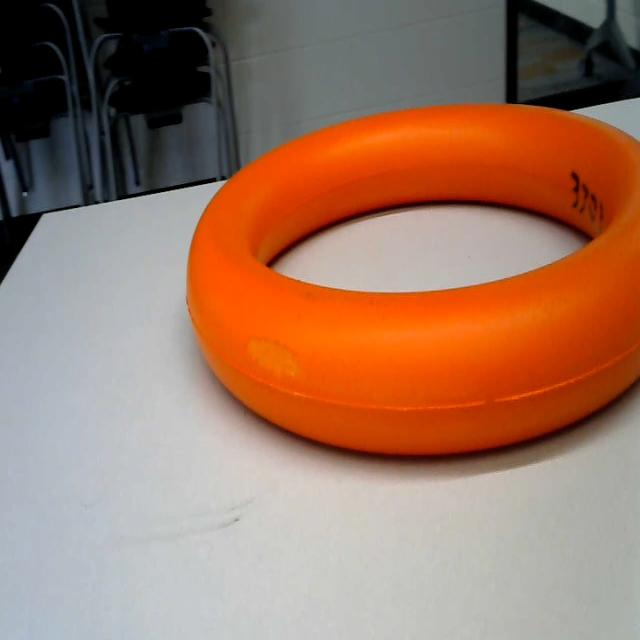note: (171, 83, 640, 458)
